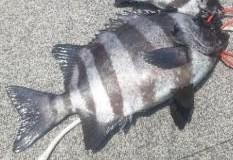fish: (6, 10, 230, 154)
